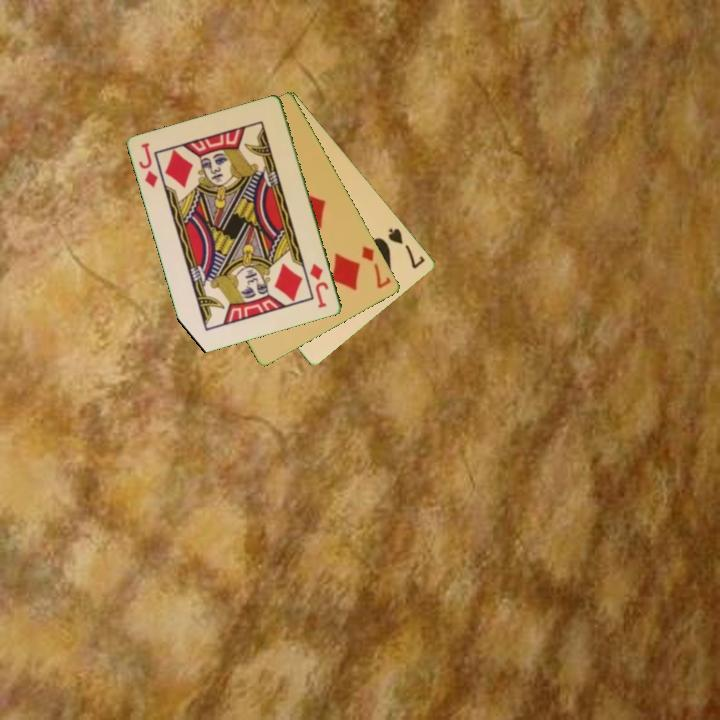7d: (358, 242, 394, 292)
7s: (385, 224, 428, 272)
Jd: (135, 139, 161, 191), (306, 260, 332, 311)
